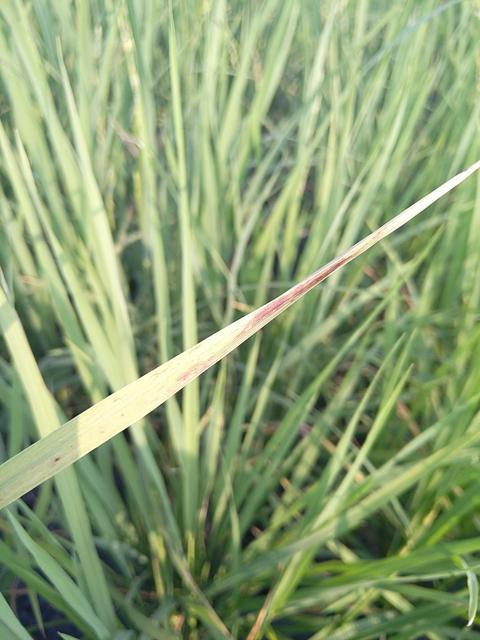Leaf Blight: (0, 166, 479, 510)
